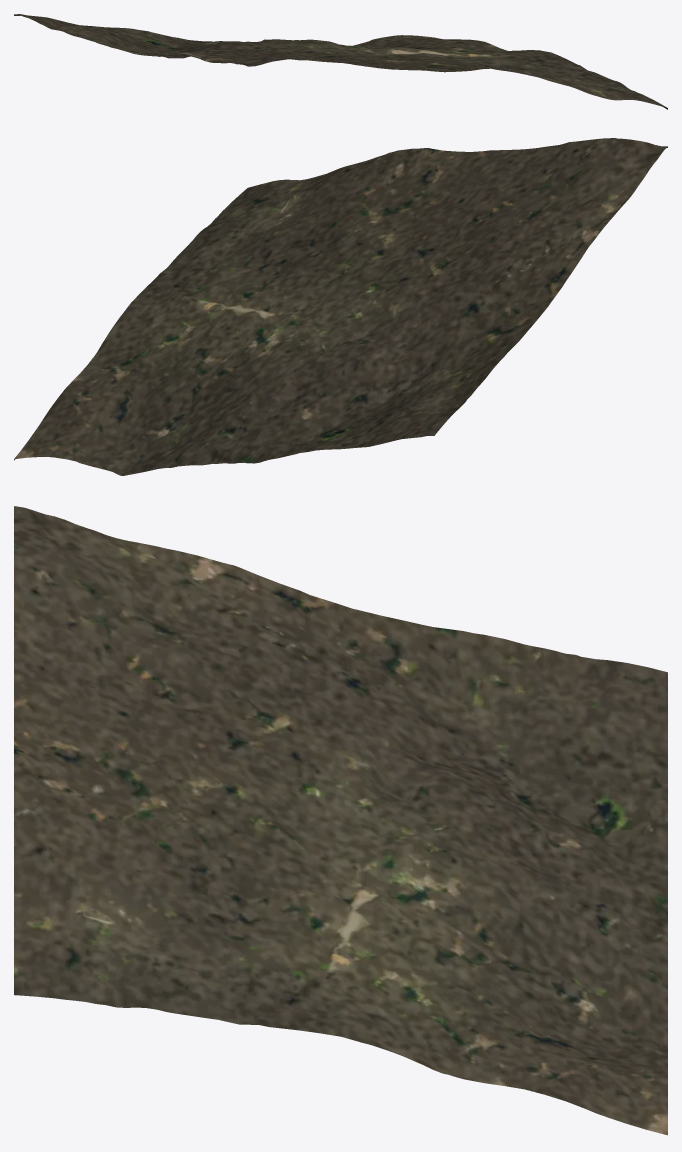
The picture shows the model from 3 angles, top to bottom: view 1: azimuth 30°, elevation 25°; view 2: azimuth 150°, elevation 25°; view 3: azimuth 270°, elevation 25°; orthographic projection. The views are drawn at different scales.
Bounding box in the file's own units: 250 × 140 × 241.
Materials: 1 (1 with a texture image).
